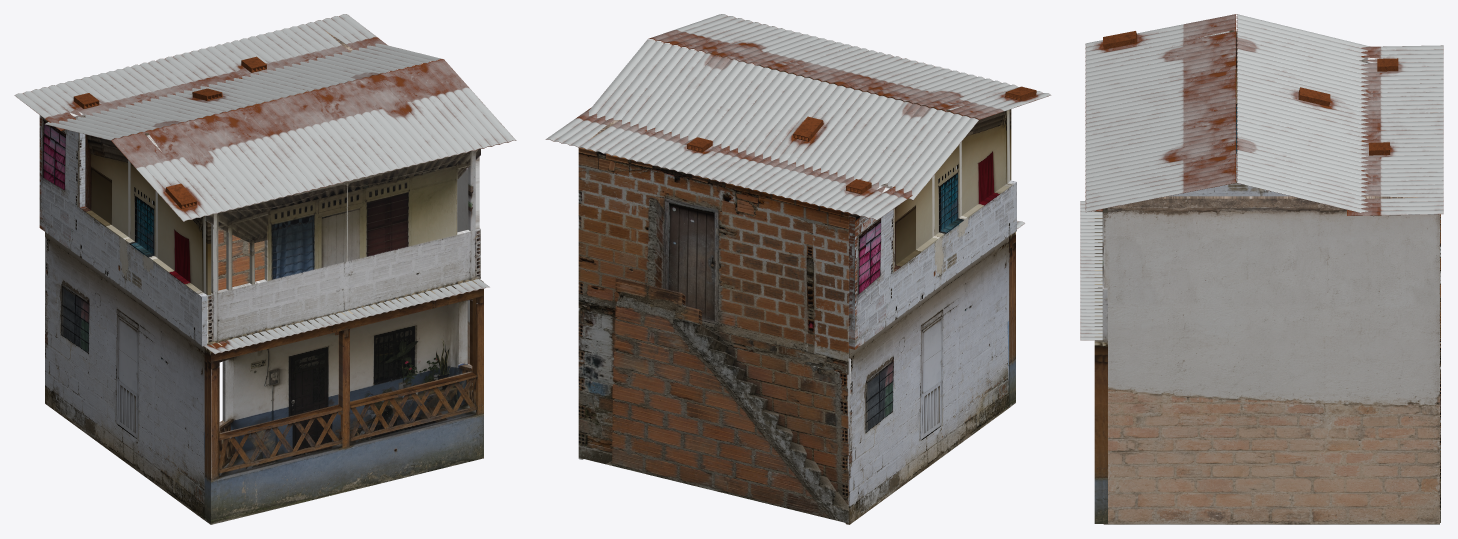
The model's file is casaA_01.fbx.
3 renders of one model, left to right at view 1: azimuth 30°, elevation 25°; view 2: azimuth 150°, elevation 25°; view 3: azimuth 270°, elevation 25°, orthographic. The views are drawn at different scales.
Parts seen in each view (by area): view 1: Techo_1.010, casaA_01B.001, casaA_01.001, casaA_01.002, casaA_01D.001, casaA_01C.001; view 2: casaA_01D.001, Techo_1.010, casaA_01B.001, casaA_01.001; view 3: casaA_01C.001, Techo_1.010, casaA_01.001, casaA_01B.001, casaA_01.002.
Boxes of the visible parts, bbox=[...] form: Techo_1.010: bbox=[14, 14, 516, 354]; casaA_01B.001: bbox=[39, 112, 211, 521]; casaA_01.001: bbox=[204, 279, 483, 524]; casaA_01.002: bbox=[204, 149, 480, 344]; casaA_01D.001: bbox=[146, 89, 314, 290]; casaA_01C.001: bbox=[322, 30, 479, 364]; casaA_01D.001: bbox=[578, 147, 850, 523]; Techo_1.010: bbox=[545, 14, 1051, 228]; casaA_01B.001: bbox=[845, 105, 1016, 524]; casaA_01.001: bbox=[1009, 232, 1015, 407]; casaA_01C.001: bbox=[1103, 196, 1439, 524]; Techo_1.010: bbox=[1080, 14, 1443, 340]; casaA_01.001: bbox=[1094, 211, 1107, 523]; casaA_01B.001: bbox=[1169, 30, 1378, 196]; casaA_01.002: bbox=[1102, 208, 1107, 340].
Size of the model in its own units: 582 by 570 by 525.
